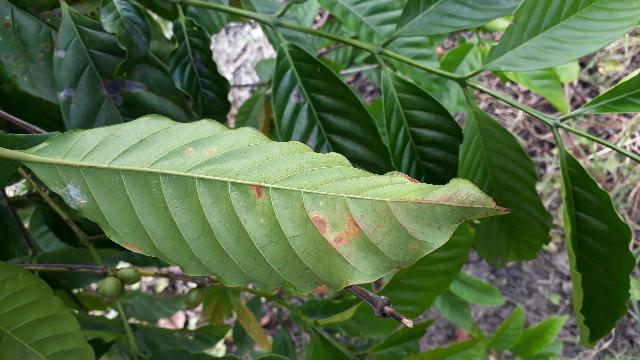rust_level_1: (21, 114, 510, 291)
